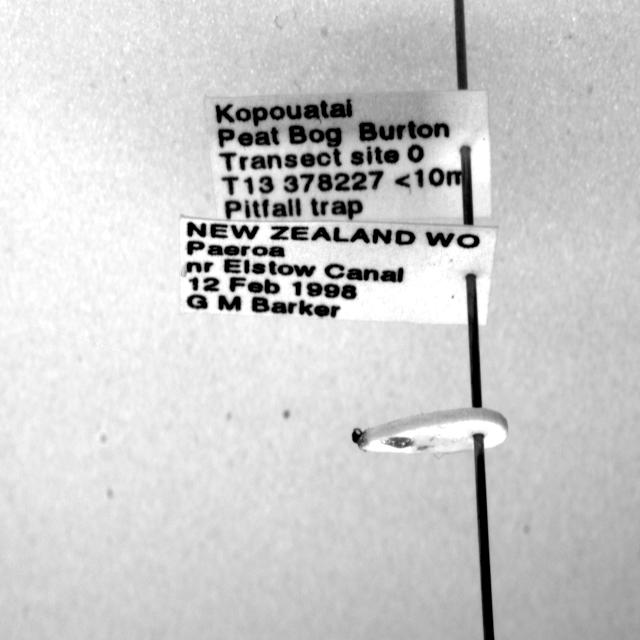typed_label: (205, 90, 491, 221), (180, 218, 498, 324)
